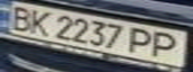2: (48, 11, 75, 42), (69, 16, 90, 45)
3: (87, 18, 109, 48)
7: (103, 20, 127, 51)
B: (3, 2, 36, 32)
K: (24, 7, 54, 36)
P: (145, 29, 187, 60), (127, 25, 160, 55)
